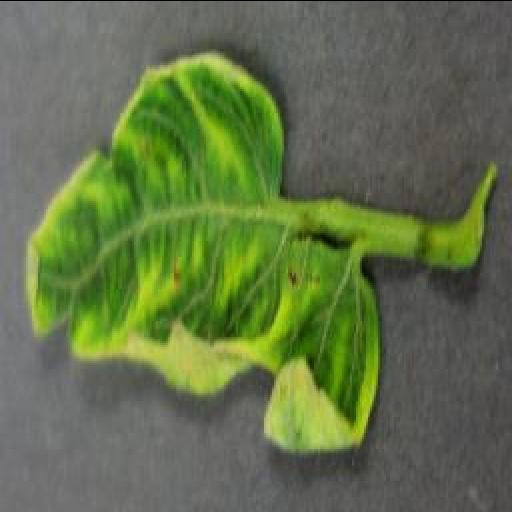disease_tomato: (22, 49, 382, 450)
